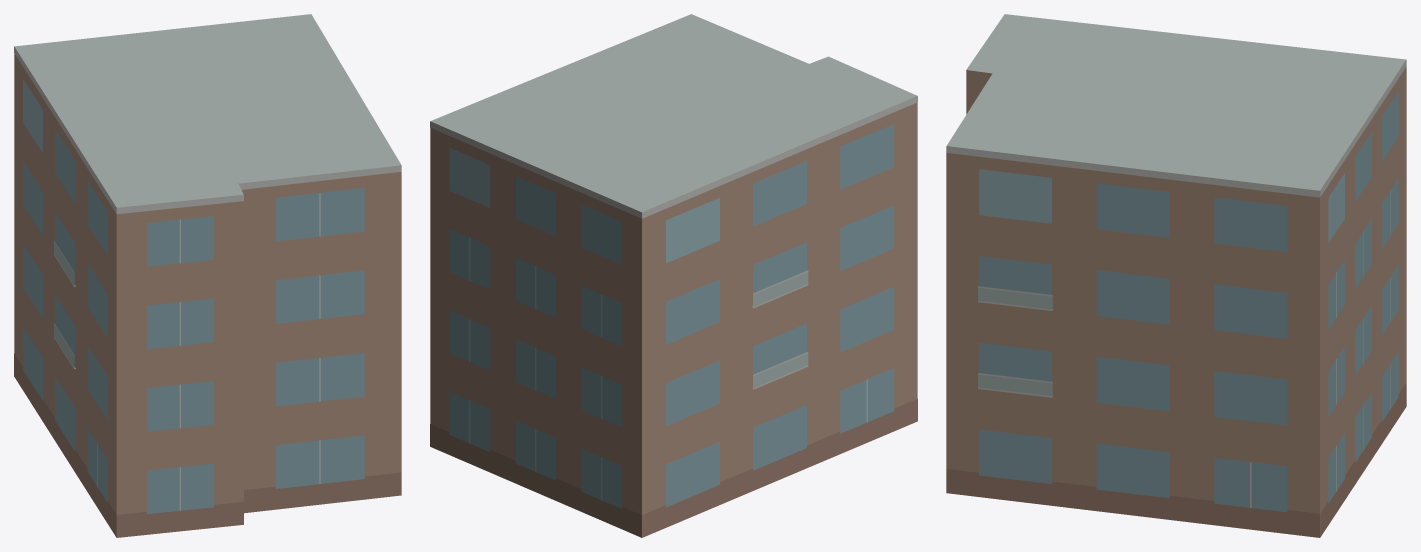
File: survey-upis-32608666.glb
The picture shows the model from 3 angles, left to right: view 1: azimuth 30°, elevation 25°; view 2: azimuth 150°, elevation 25°; view 3: azimuth 270°, elevation 25°; orthographic projection. The views are drawn at different scales.
Visible parts, largest first — view 1: survey-upis-32608666.tmp; view 2: survey-upis-32608666.tmp; view 3: survey-upis-32608666.tmp.
Part boxes in pixels (x1=…): survey-upis-32608666.tmp: x1=14, y1=14, x2=401, y2=537; survey-upis-32608666.tmp: x1=430, y1=14, x2=917, y2=537; survey-upis-32608666.tmp: x1=946, y1=14, x2=1406, y2=537.
Bounding box in the file's own units: 13.67 × 12.5 × 15.03.
